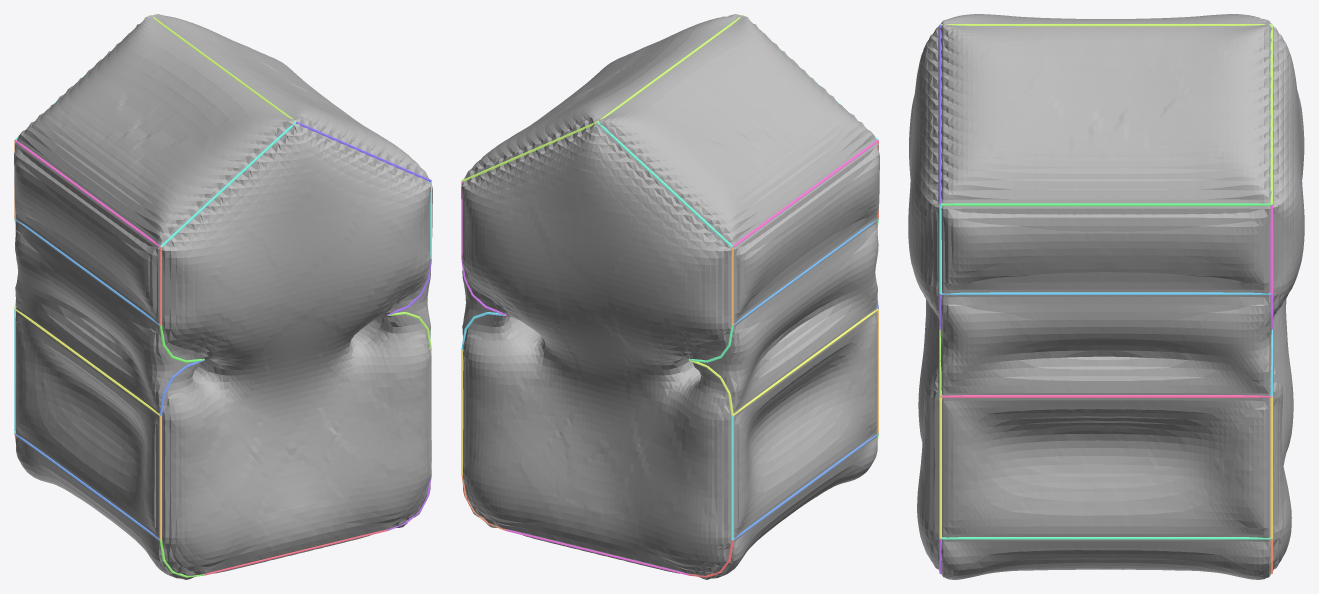
File: onshape_house.gltf
The picture shows the model from 3 angles, left to right: view 1: azimuth 30°, elevation 25°; view 2: azimuth 150°, elevation 25°; view 3: azimuth 270°, elevation 25°; orthographic projection. The views are drawn at different scales.
Bounding box in the file's own units: 0.5258 × 0.7597 × 0.5465.
